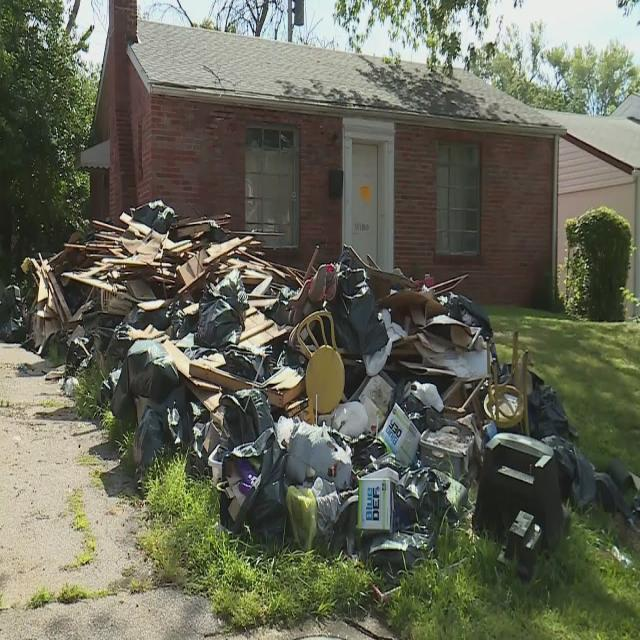House: (70, 0, 566, 315), (534, 93, 640, 320)
